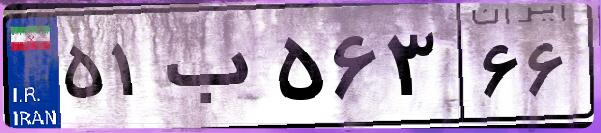1: (110, 28, 158, 98)
3: (385, 28, 445, 110)
5: (270, 28, 330, 110), (57, 26, 110, 100)
6: (330, 28, 385, 110), (475, 38, 525, 113), (525, 38, 570, 115)
ب: (158, 20, 270, 120)
